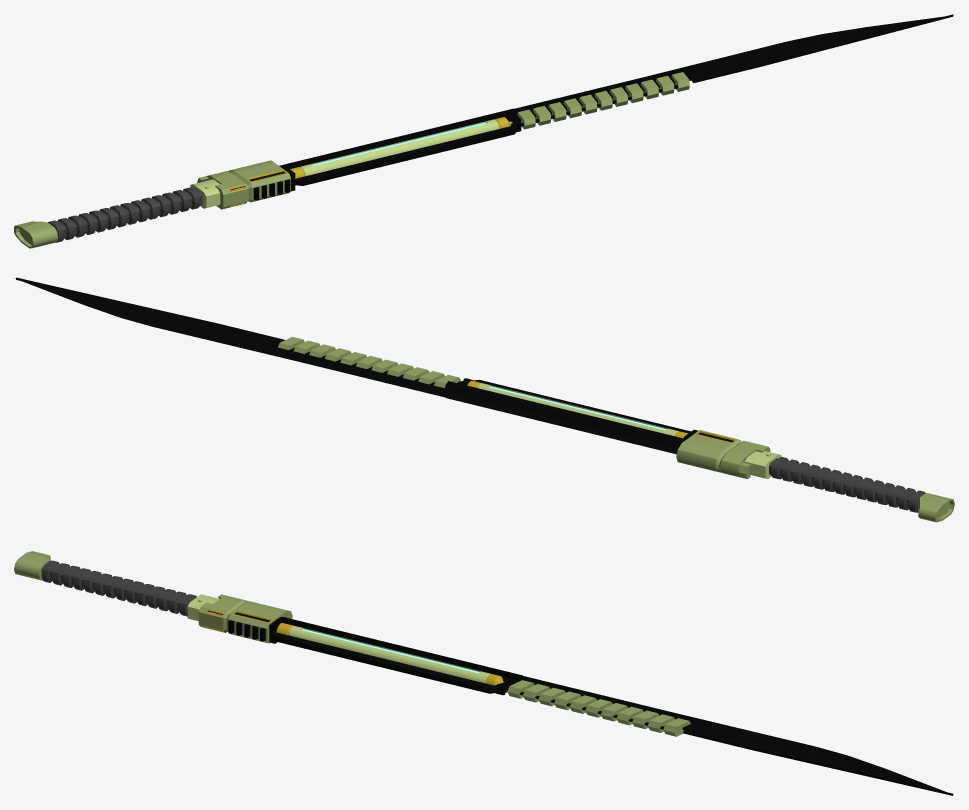
Rendered from CyberKatana.fbx.
3 views of the same model, one above another, from view 1: azimuth 30°, elevation 25°; view 2: azimuth 150°, elevation 25°; view 3: azimuth 330°, elevation 25° (orthographic).
Visible parts, largest first — view 1: Blade001, Blade001.001; view 2: Blade001, Blade001.001; view 3: Blade001, Blade001.001.
Boxes of the visible parts, box(x1,y1,x2,y2) form: Blade001: box(14, 14, 953, 248); Blade001.001: box(515, 16, 942, 116); Blade001: box(16, 277, 954, 522); Blade001.001: box(14, 278, 675, 450); Blade001: box(14, 551, 953, 795); Blade001.001: box(523, 676, 945, 791).
Bounding box in the file's own units: 142 × 2.89 × 7.24.
